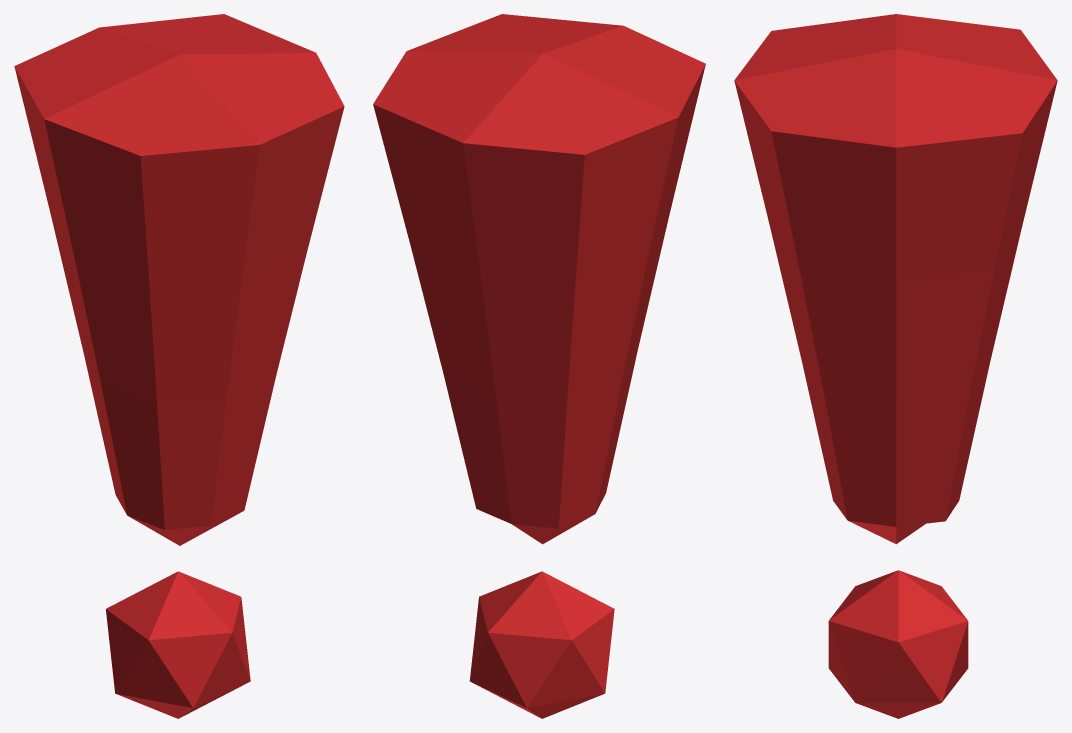
File: admirationMark.fbx
3 renders of one model, left to right at view 1: azimuth 30°, elevation 25°; view 2: azimuth 150°, elevation 25°; view 3: azimuth 270°, elevation 25°, orthographic.
Parts seen in each view (by area): view 1: Cube; view 2: Cube; view 3: Cube.
Boxes of the visible parts, left/top/right/bottom form: Cube: left=14, top=14, right=344, bottom=718; Cube: left=373, top=14, right=705, bottom=718; Cube: left=734, top=14, right=1057, bottom=718.
Bounding box in the file's own units: 249 × 581 × 254.
